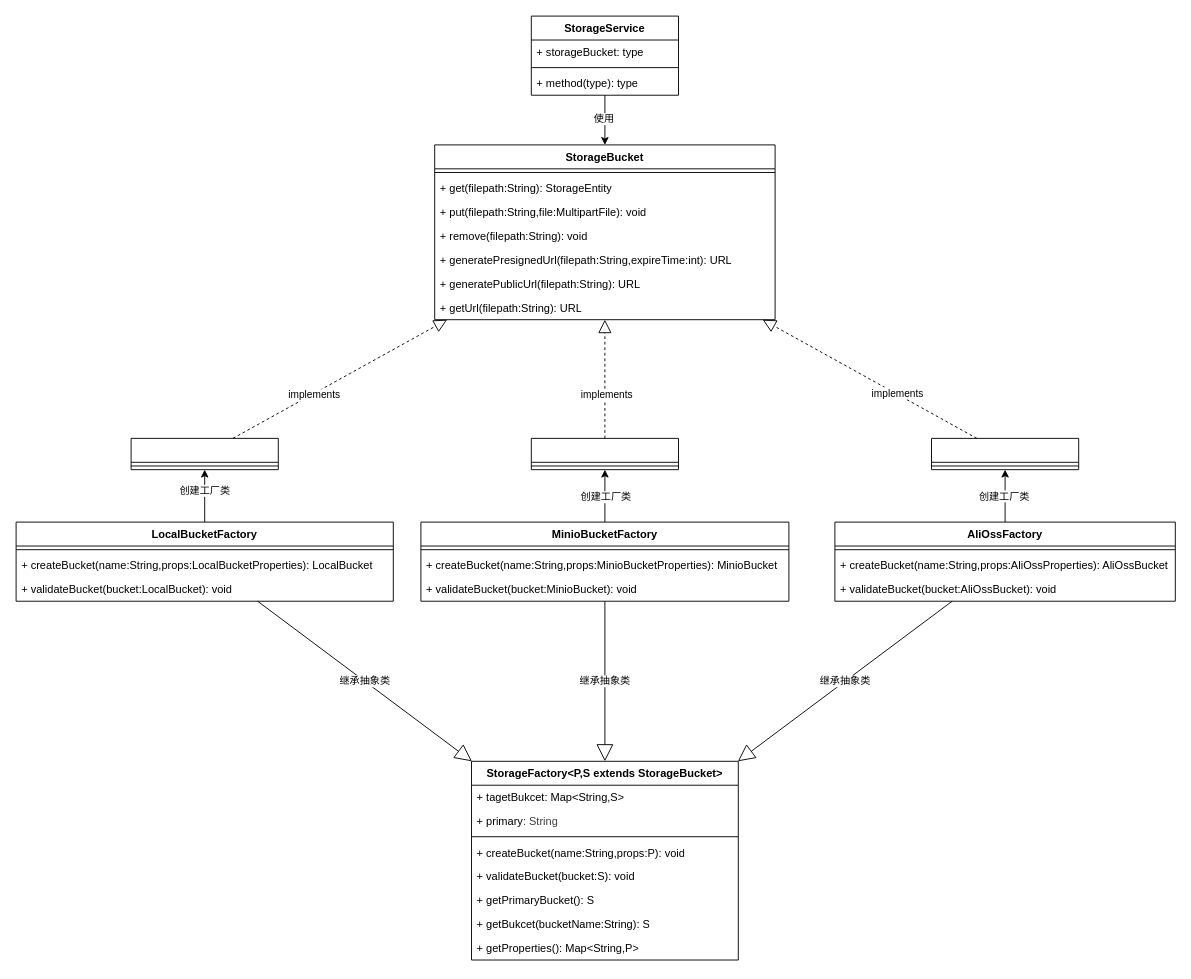
Some shapes in this 1191 by 979 pixel diagram are drawn without their labels. The shapes that lost their labels are listed below. From the top down, each one's box as (x1, y1, x2, y2) in pixels, then its label:
(130, 437, 278, 470): LocalBucket
(530, 437, 678, 470): MinioBucket
(931, 437, 1079, 470): AliOssBucket
